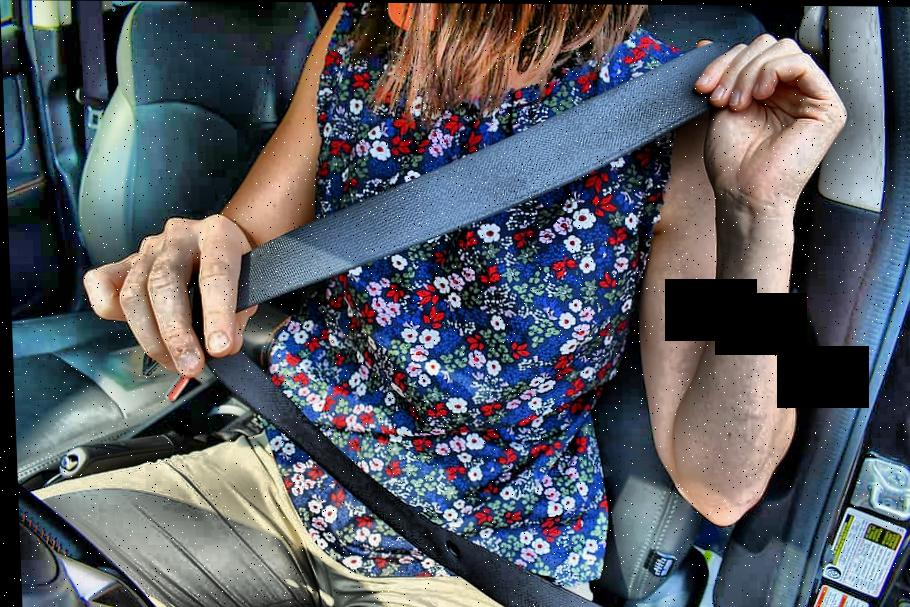seatbelt: (140, 22, 829, 597)
